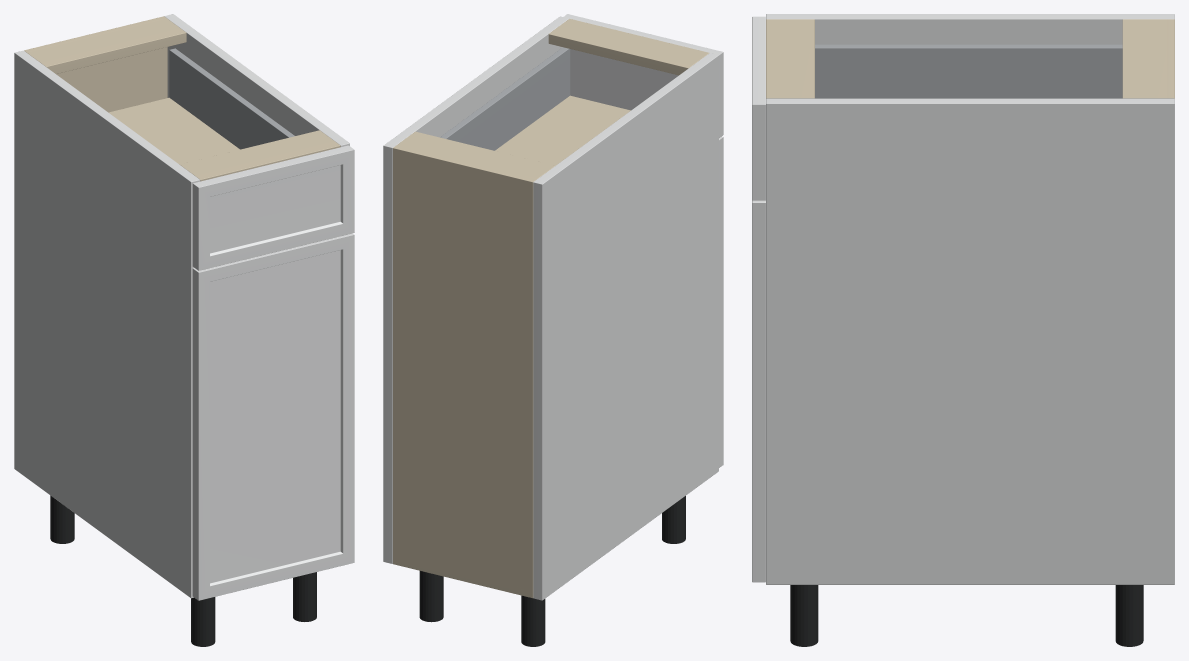
File: oppein-ply-ssw-b12.glb
3 views of the same model, side by side, from view 1: azimuth 30°, elevation 25°; view 2: azimuth 150°, elevation 25°; view 3: azimuth 270°, elevation 25° (orthographic). The views are drawn at different scales.
Parts seen in each view (by area): view 1: Cabinet side, Door, Drawer front, Drawer side.001, Cabinet back, Cabinet side.001, Drawer floor, Top support rail, Top support rail.001, Adjustable foot.001, Adjustable foot.003, Adjustable foot; view 2: Cabinet side, Cabinet back, Cabinet side.001, Drawer side.001, Drawer front, Drawer floor, Top support rail.001, Top support rail, Door, Adjustable foot, Adjustable foot.002, Adjustable foot.001 (+1 smaller); view 3: Cabinet side.001, Drawer side, Cabinet side, Door, Top support rail.001, Top support rail, Drawer front, Adjustable foot.002, Adjustable foot.003, Cabinet back.
Boxes of the visible parts, bbox=[...] form: Cabinet side: bbox=[14, 50, 200, 598]; Door: bbox=[192, 233, 354, 600]; Drawer front: bbox=[192, 145, 354, 270]; Drawer side.001: bbox=[169, 48, 294, 149]; Cabinet back: bbox=[24, 16, 167, 112]; Cabinet side.001: bbox=[164, 14, 349, 146]; Drawer floor: bbox=[108, 97, 239, 164]; Top support rail: bbox=[25, 18, 186, 73]; Top support rail.001: bbox=[179, 130, 340, 181]; Adjustable foot.001: bbox=[191, 597, 215, 646]; Adjustable foot.003: bbox=[293, 572, 316, 621]; Adjustable foot: bbox=[50, 495, 74, 543]; Cabinet side: bbox=[533, 53, 718, 600]; Cabinet back: bbox=[393, 145, 535, 598]; Cabinet side.001: bbox=[383, 16, 568, 563]; Drawer side.001: bbox=[440, 47, 570, 150]; Drawer front: bbox=[563, 14, 723, 137]; Drawer floor: bbox=[495, 95, 630, 165]; Top support rail.001: bbox=[548, 18, 709, 75]; Top support rail: bbox=[396, 131, 554, 179]; Door: bbox=[719, 136, 723, 467]; Adjustable foot: bbox=[521, 595, 545, 646]; Adjustable foot.002: bbox=[419, 571, 443, 622]; Adjustable foot.001: bbox=[662, 496, 685, 543]; Cabinet side.001: bbox=[766, 98, 1174, 584]; Drawer side: bbox=[815, 44, 1122, 98]; Cabinet side: bbox=[766, 14, 1174, 44]; Door: bbox=[752, 200, 765, 582]; Top support rail.001: bbox=[766, 19, 814, 98]; Top support rail: bbox=[1122, 19, 1166, 98]; Drawer front: bbox=[752, 16, 765, 200]; Adjustable foot.002: bbox=[1115, 585, 1143, 646]; Adjustable foot.003: bbox=[790, 585, 818, 646]; Cabinet back: bbox=[1167, 19, 1174, 98].
Bounding box in the file's own units: 0.3048 × 0.8763 × 0.6064.
